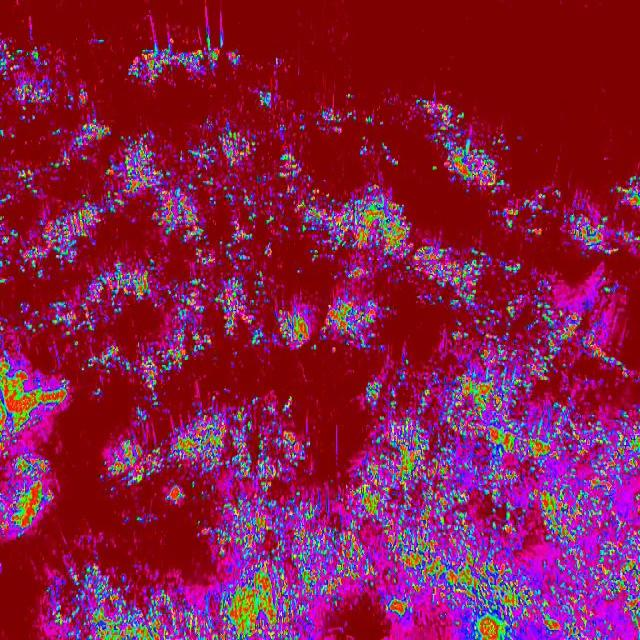fire: (69, 49, 274, 640), (274, 59, 414, 640), (514, 166, 640, 640), (414, 89, 514, 640), (0, 28, 67, 538), (42, 569, 68, 640)
